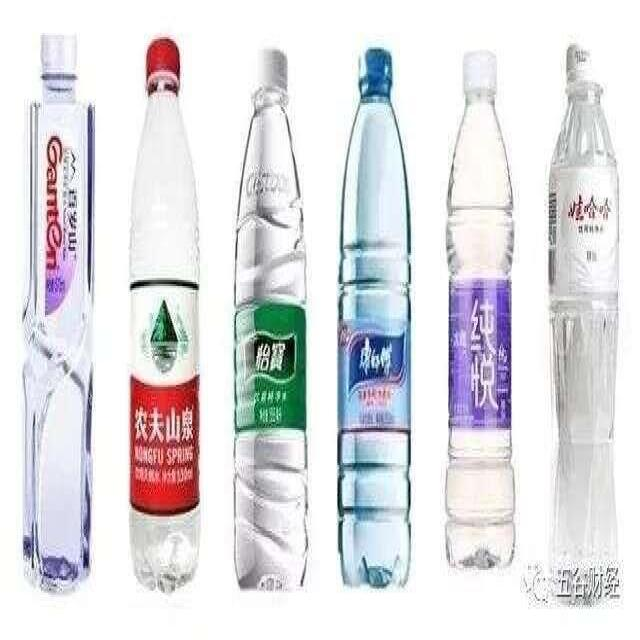bottle: (542, 32, 626, 610), (16, 23, 98, 603), (123, 29, 205, 599), (230, 39, 312, 592), (333, 42, 414, 593), (441, 44, 518, 582)
